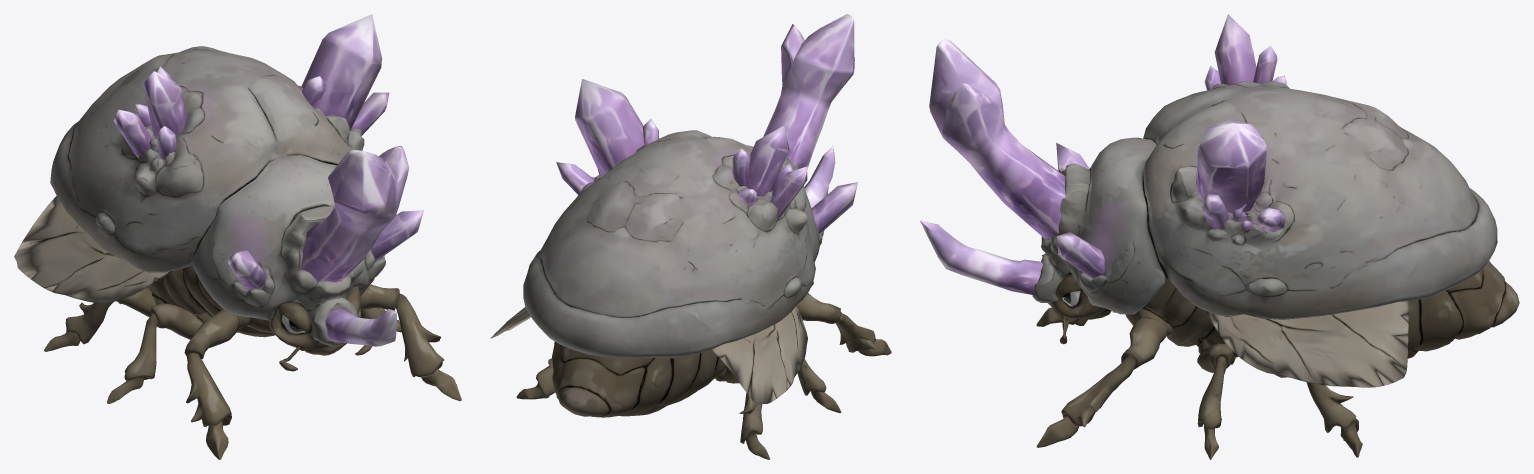
The model's file is Pok71. Beetlex.glb.
The picture shows the model from 3 angles, left to right: view 1: azimuth 30°, elevation 25°; view 2: azimuth 150°, elevation 25°; view 3: azimuth 270°, elevation 25°; orthographic projection. The views are drawn at different scales.
Visible parts, largest first — view 1: geometry_0; view 2: geometry_0; view 3: geometry_0.
Boxes of the visible parts, x1,y1,x2,y2 form: geometry_0: [14, 14, 461, 459]; geometry_0: [490, 14, 891, 459]; geometry_0: [920, 14, 1519, 459].
Size of the model in its own units: 0.5786 by 0.584 by 0.9536.
Materials: 1 (1 with a texture image).
